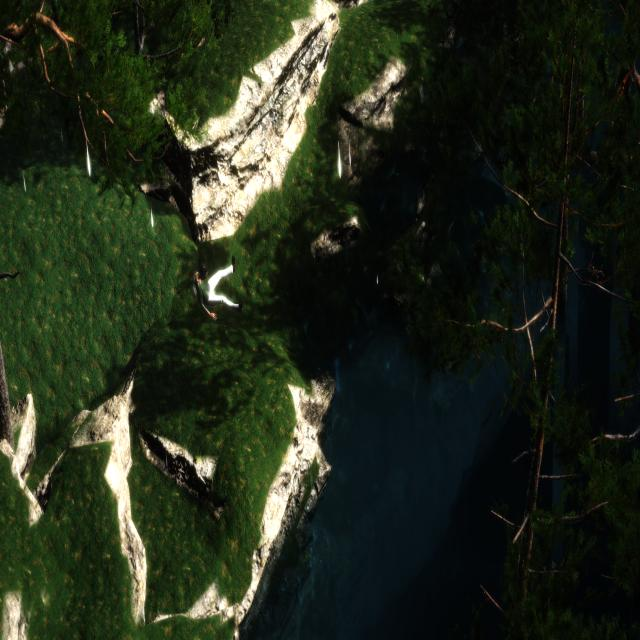Human: (194, 258, 246, 321)
